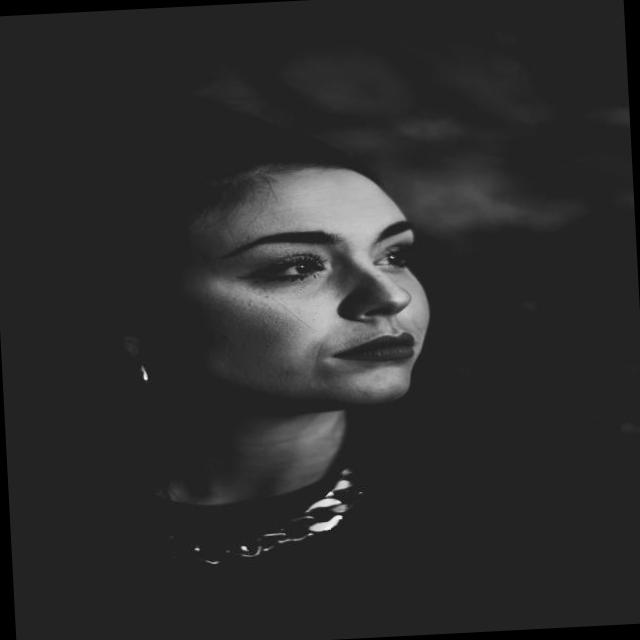person: (13, 74, 510, 640)
